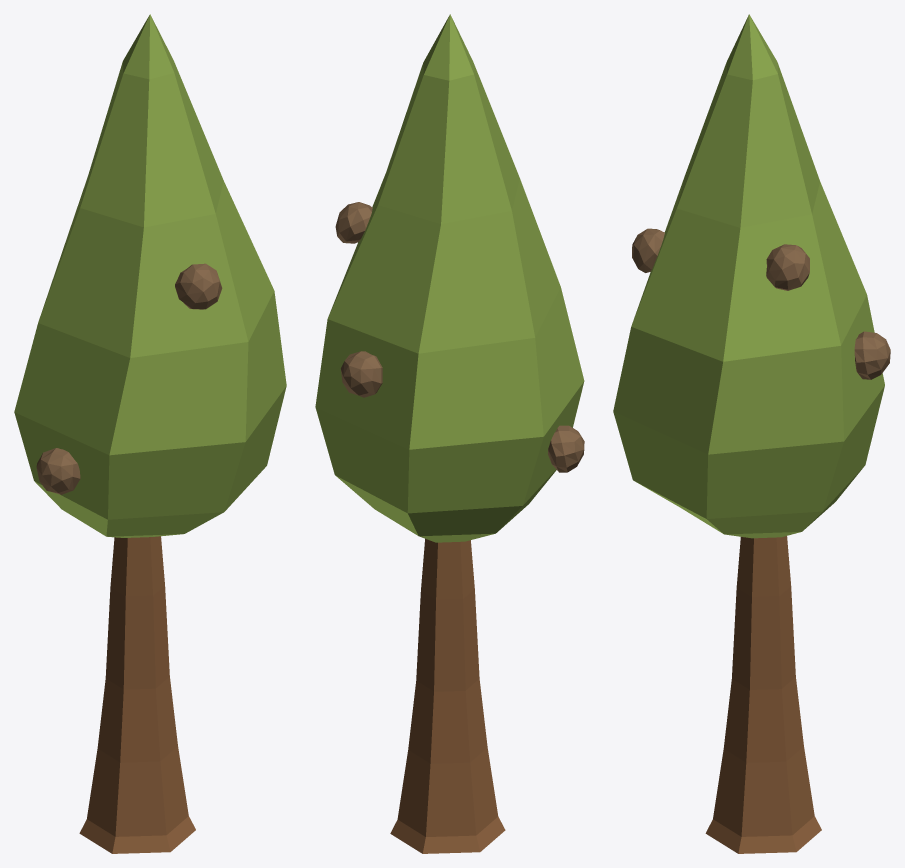
Rendered from MeatballTree_Adult.fbx.
3 renders of one model, left to right at view 1: azimuth 30°, elevation 25°; view 2: azimuth 150°, elevation 25°; view 3: azimuth 270°, elevation 25°, orthographic.
Parts seen in each view (by area): view 1: Icosphere.001; view 2: Icosphere.001; view 3: Icosphere.001.
Boxes of the visible parts, <box> form: Icosphere.001: <box>14,14,286,853</box>; Icosphere.001: <box>315,14,584,853</box>; Icosphere.001: <box>613,14,890,853</box>.
Bounding box in the file's own units: 396 × 1308 × 401.
